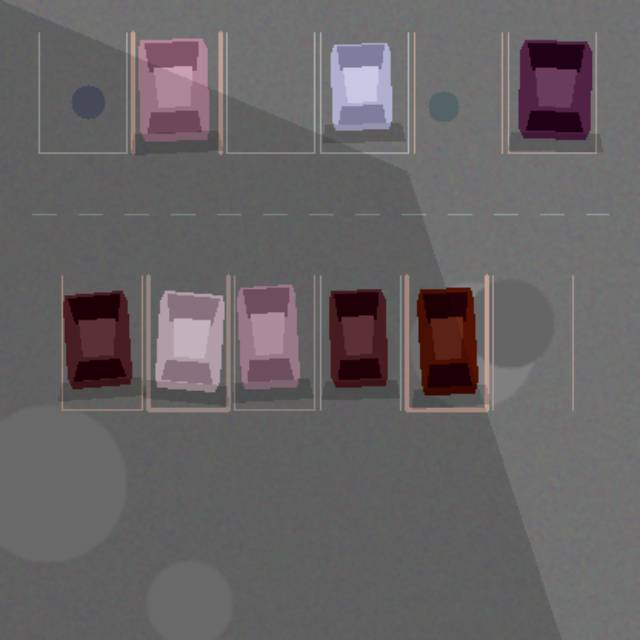space-empty: (492, 275, 572, 409), (38, 32, 126, 152), (226, 32, 314, 152), (414, 32, 502, 152)
space-occupied: (62, 275, 142, 409), (148, 275, 228, 409), (234, 275, 314, 409), (320, 275, 400, 409), (406, 275, 486, 409), (132, 32, 220, 152), (320, 32, 408, 152), (508, 32, 595, 152)
